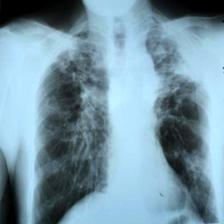tuberculosis: (23, 15, 218, 224)
